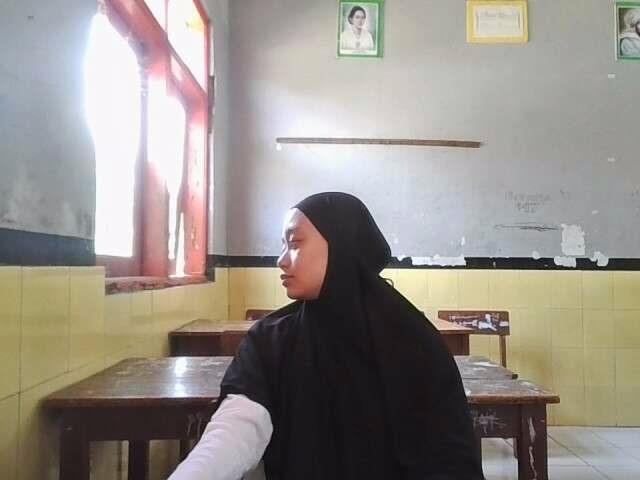cheating: (162, 174, 500, 480)
